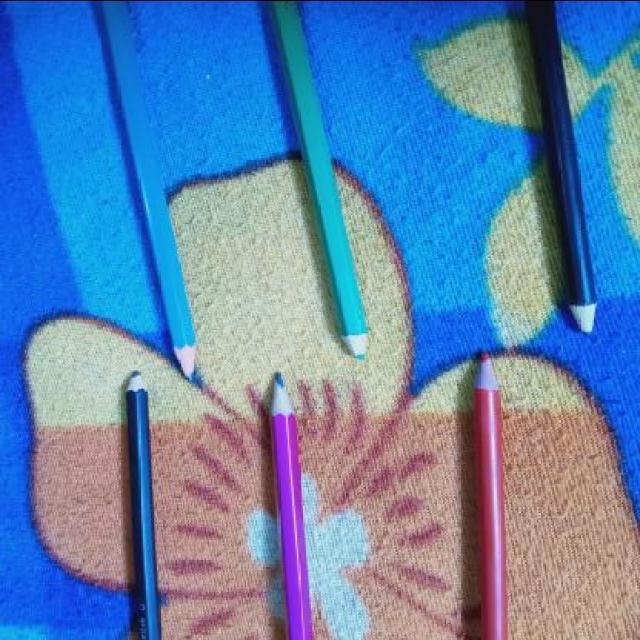pencil: (260, 368, 309, 430), (163, 332, 209, 384), (467, 348, 511, 402), (560, 288, 606, 339), (336, 314, 379, 364), (116, 362, 152, 400)
